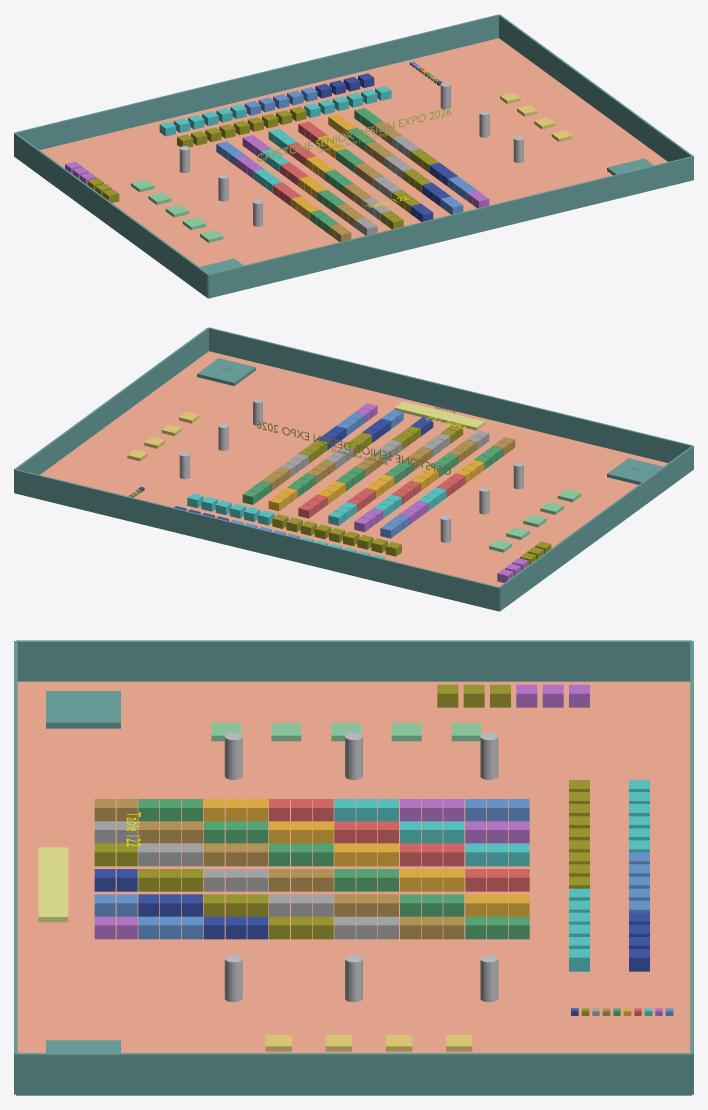
3 renders of one model, top to bottom at view 1: azimuth 30°, elevation 25°; view 2: azimuth 150°, elevation 25°; view 3: azimuth 270°, elevation 25°, orthographic. The views are drawn at different scales.
Parts seen in each view (by area): view 1: Arena_Floor, Wall_S, Wall_N, Wall_W, Wall_E, Text.006; view 2: Arena_Floor, Wall_N, Wall_S, Wall_W, Wall_E, SORGS_E, Registration, SORGS_W, Text.006; view 3: Arena_Floor, Wall_E, Wall_W, SORGS_W, Registration, Wall_S, Wall_N, SORGS_E, Pillar_0, Pillar_2, Pillar_3, Pillar_5 (+2 smaller).
Part boxes in pixels (box(x1,y1,x2,y2)): Arena_Floor: box(40, 38, 667, 298); Wall_S: box(208, 156, 693, 298); Wall_N: box(14, 14, 499, 149); Wall_W: box(14, 132, 208, 298); Wall_E: box(499, 14, 693, 179); Text.006: box(257, 108, 450, 161); Arena_Floor: box(40, 351, 667, 611); Wall_N: box(14, 469, 499, 611); Wall_S: box(208, 327, 693, 462); Wall_W: box(499, 445, 693, 611); Wall_E: box(14, 327, 208, 492); SORGS_E: box(197, 358, 255, 385); Registration: box(394, 401, 485, 430); SORGS_W: box(607, 458, 662, 484); Text.006: box(257, 421, 450, 474); Arena_Floor: box(17, 681, 690, 1052); Wall_E: box(16, 1053, 691, 1095); Wall_W: box(16, 640, 691, 681); SORGS_W: box(46, 691, 120, 728); Registration: box(38, 847, 68, 922); Wall_S: box(14, 641, 17, 1094); Wall_N: box(690, 641, 693, 1094); SORGS_E: box(46, 1040, 120, 1052); Pillar_0: box(480, 732, 498, 779); Pillar_2: box(224, 732, 242, 779); Pillar_3: box(480, 954, 498, 1002); Pillar_5: box(224, 954, 242, 1002).
Bounding box in the file's own units: 130 × 9.96 × 90.5.
